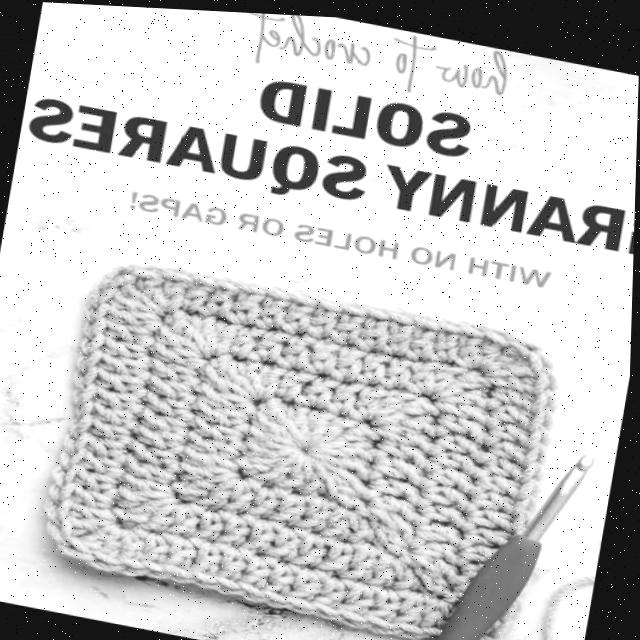dc: (307, 452, 388, 498), (103, 264, 167, 312), (90, 280, 166, 313), (315, 456, 367, 504), (370, 500, 427, 543), (45, 494, 117, 527), (259, 392, 306, 442), (406, 552, 458, 594), (59, 524, 117, 561), (373, 452, 443, 482), (490, 379, 562, 408), (486, 360, 561, 387), (211, 351, 257, 395), (352, 298, 394, 346), (439, 407, 502, 439), (379, 435, 444, 466), (164, 529, 202, 582), (49, 515, 116, 545), (429, 363, 496, 393), (375, 422, 449, 449), (481, 331, 538, 366), (372, 489, 433, 521), (330, 294, 369, 344), (79, 347, 151, 374), (370, 472, 437, 501), (65, 430, 127, 461), (484, 343, 555, 370), (375, 391, 441, 420), (305, 411, 363, 444), (252, 407, 305, 443), (84, 316, 157, 342), (169, 308, 211, 353), (368, 585, 409, 631), (197, 361, 252, 395), (434, 391, 503, 418), (382, 301, 417, 354), (284, 564, 324, 610), (61, 448, 129, 475), (249, 449, 304, 482), (477, 468, 544, 495), (125, 263, 166, 307), (179, 268, 219, 313), (420, 499, 480, 529), (90, 524, 130, 569), (87, 300, 159, 325), (116, 495, 178, 524), (489, 413, 553, 441), (473, 484, 537, 512), (55, 462, 119, 490), (430, 310, 468, 357), (232, 276, 269, 324), (395, 587, 432, 635), (439, 428, 500, 457), (473, 321, 516, 362), (311, 449, 376, 476), (380, 410, 453, 434), (307, 420, 383, 443), (75, 384, 142, 410), (306, 291, 343, 338), (421, 480, 483, 508), (417, 549, 468, 583), (314, 572, 354, 615), (190, 533, 223, 585), (216, 543, 251, 592), (279, 283, 317, 328), (154, 264, 192, 309), (247, 421, 308, 449), (194, 474, 244, 508), (50, 480, 115, 506), (407, 307, 440, 358), (265, 525, 316, 558), (306, 436, 390, 456), (72, 416, 129, 445), (431, 447, 497, 472), (77, 398, 138, 425), (138, 401, 191, 432), (373, 381, 421, 415), (342, 580, 379, 624), (119, 526, 153, 573), (427, 462, 486, 489), (134, 385, 193, 412), (175, 473, 236, 499), (491, 398, 557, 422), (82, 332, 148, 356), (157, 322, 205, 355), (151, 339, 207, 367), (209, 273, 243, 319), (240, 554, 274, 600), (279, 366, 321, 403), (198, 397, 255, 424), (129, 451, 182, 480), (493, 434, 552, 460), (77, 364, 136, 390), (485, 452, 546, 477), (260, 280, 293, 326), (293, 531, 339, 564), (143, 530, 175, 577), (468, 503, 530, 527), (118, 471, 177, 496), (196, 412, 252, 438), (184, 441, 240, 467), (412, 536, 475, 559), (266, 559, 298, 604), (416, 519, 481, 541), (201, 379, 256, 405), (189, 429, 246, 454), (425, 358, 472, 388), (145, 369, 197, 396), (307, 370, 343, 409), (311, 336, 346, 376), (141, 354, 201, 377), (258, 326, 294, 364), (286, 329, 320, 369), (455, 314, 484, 360), (343, 540, 379, 577), (362, 347, 398, 384), (275, 456, 309, 495), (135, 421, 188, 446), (224, 474, 260, 510), (181, 458, 241, 479), (235, 451, 295, 472), (336, 379, 370, 416), (271, 489, 308, 523), (297, 493, 334, 527), (316, 536, 354, 569), (258, 359, 291, 397), (166, 502, 205, 534), (245, 433, 304, 454), (440, 382, 505, 401), (338, 342, 372, 378), (323, 501, 359, 535), (306, 404, 338, 442), (131, 439, 182, 462), (409, 354, 443, 388), (214, 315, 246, 351), (233, 323, 268, 355), (249, 484, 284, 516), (244, 519, 278, 551), (192, 311, 218, 352), (219, 513, 254, 543), (358, 382, 391, 413), (239, 357, 264, 396), (192, 508, 224, 538), (293, 399, 315, 442), (368, 549, 397, 580), (304, 454, 328, 491), (394, 554, 424, 583), (351, 505, 376, 539), (388, 352, 415, 383)
